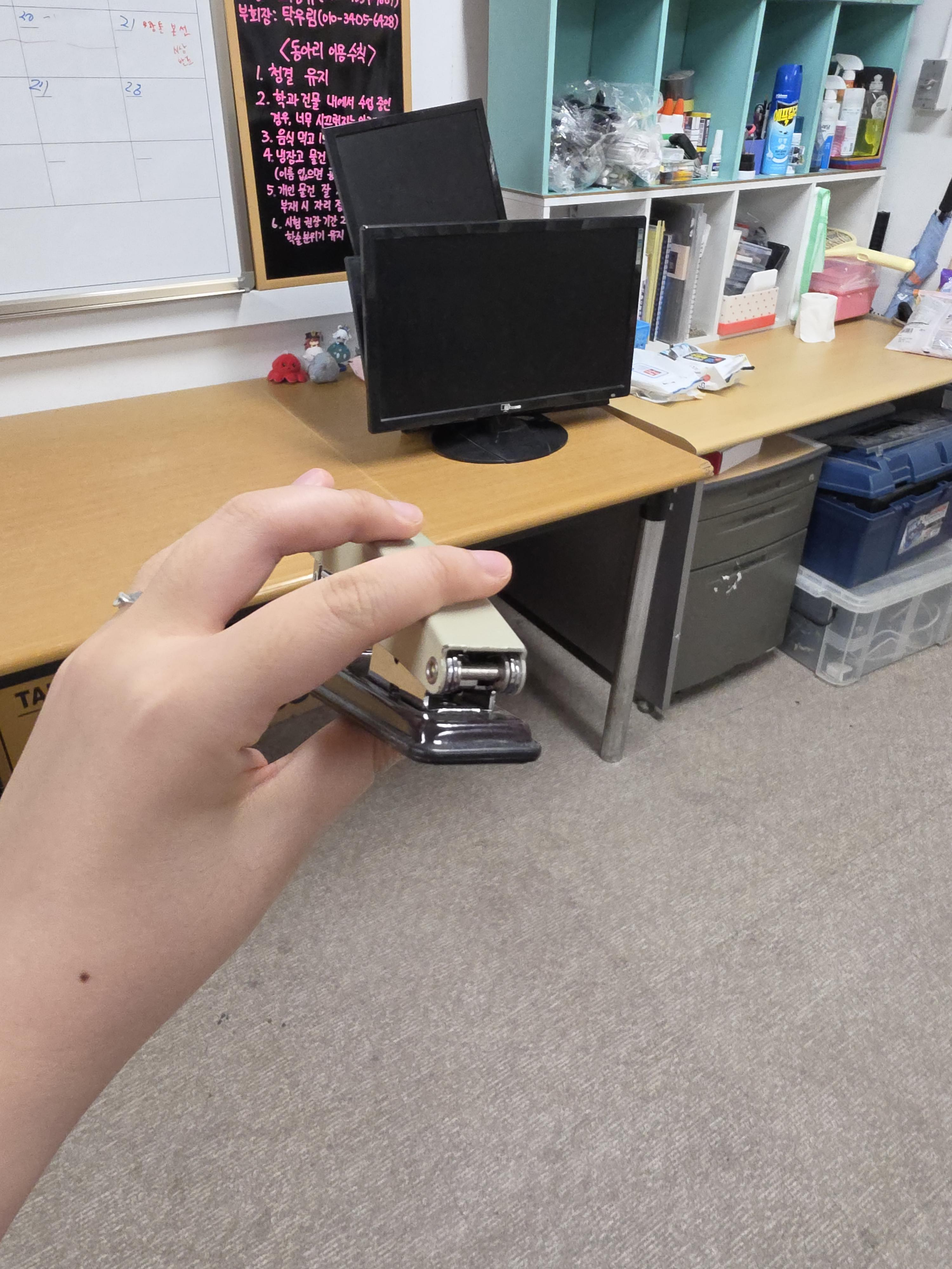stapler: (305, 530, 542, 766)
tissue: (798, 293, 838, 343)
